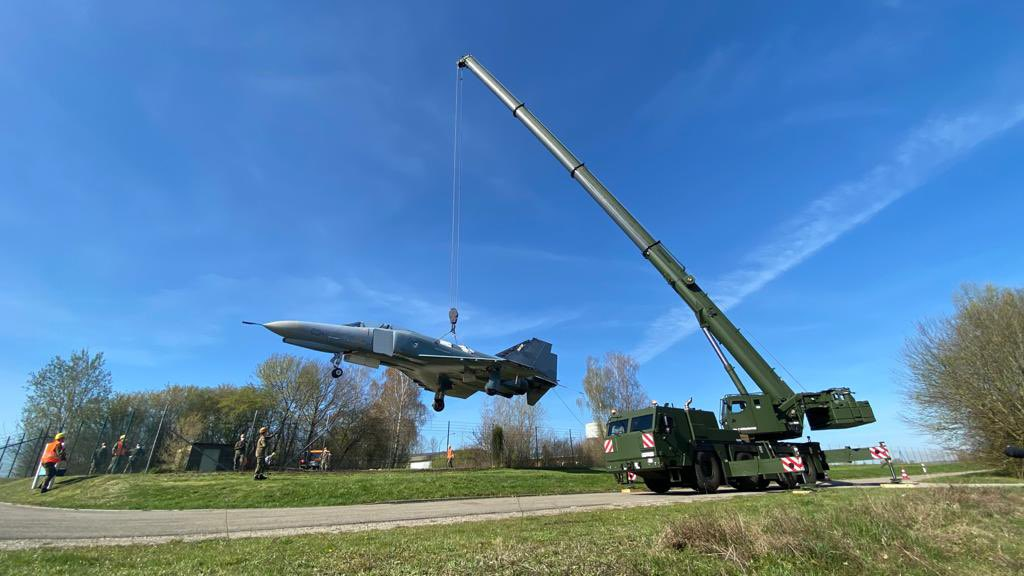F4: (242, 320, 568, 413)
